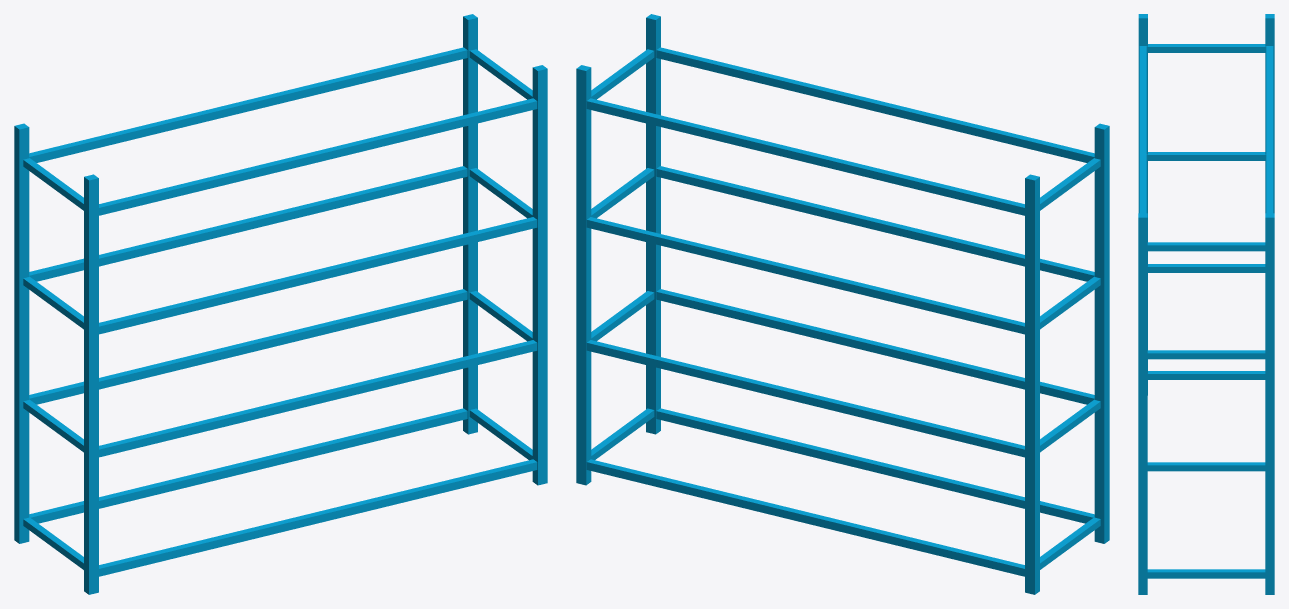
File: Gas_Cylinder_Shelf_01_Lod0.fbx
The picture shows the model from 3 angles, left to right: view 1: azimuth 30°, elevation 25°; view 2: azimuth 150°, elevation 25°; view 3: azimuth 270°, elevation 25°; orthographic projection. The views are drawn at different scales.
Visible parts, largest first — view 1: Gas_Cylinder_Shelf_01_Lod0; view 2: Gas_Cylinder_Shelf_01_Lod0; view 3: Gas_Cylinder_Shelf_01_Lod0.
Boxes of the visible parts, x1,y1,x2,y2 form: Gas_Cylinder_Shelf_01_Lod0: (14,14,547,594); Gas_Cylinder_Shelf_01_Lod0: (576,14,1109,594); Gas_Cylinder_Shelf_01_Lod0: (1138,14,1274,594).
Size of the model in its own units: 156 by 135 by 44.11.
